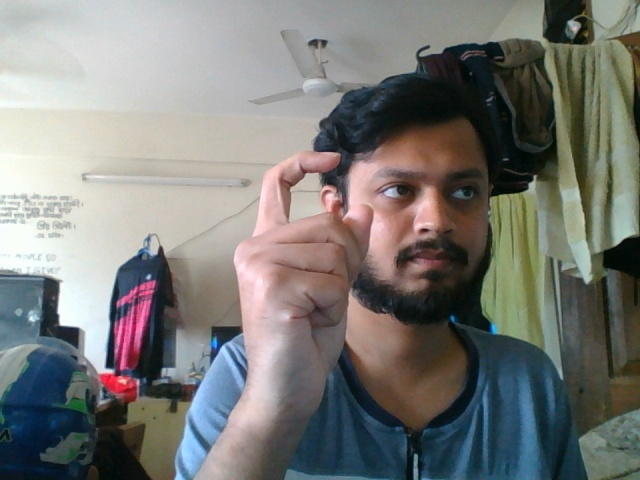e: (219, 145, 379, 473)
